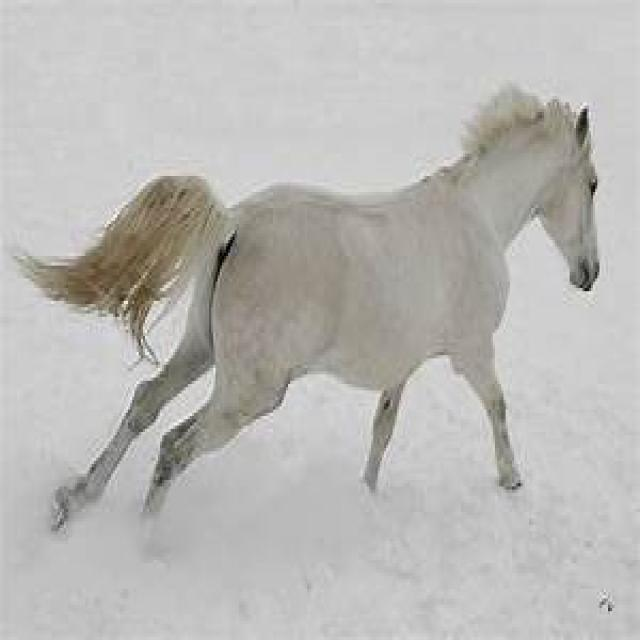animal: (11, 80, 600, 541)
